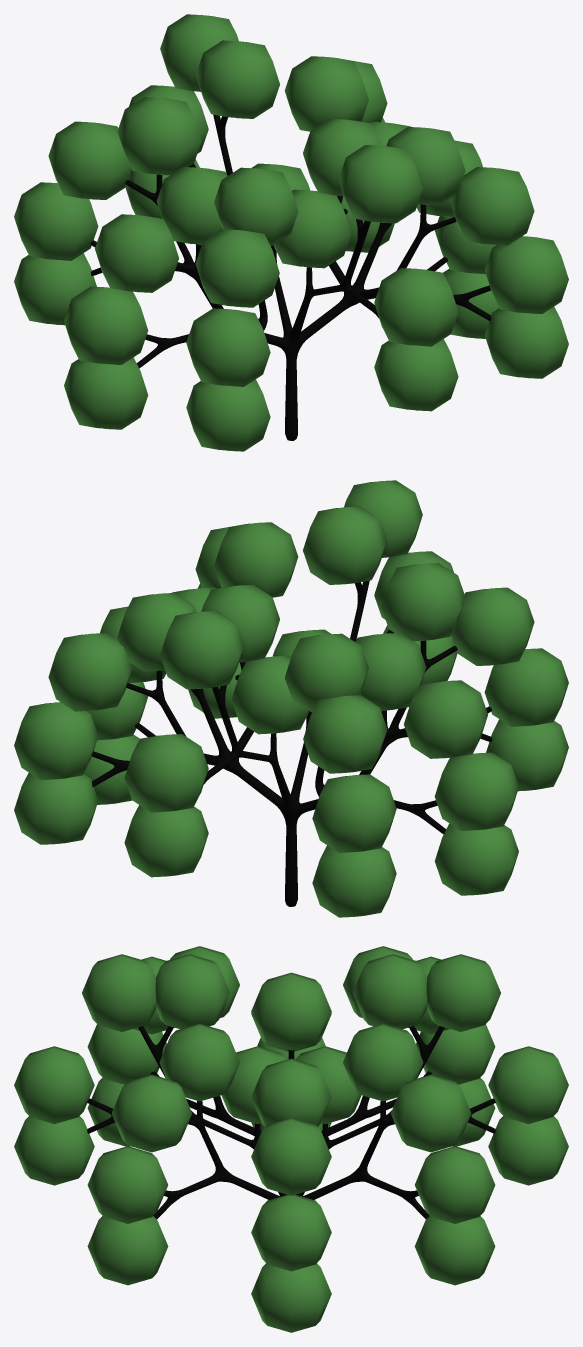
File: plant_variant_2.fbx
3 views of the same model, one above another, from view 1: azimuth 30°, elevation 25°; view 2: azimuth 150°, elevation 25°; view 3: azimuth 270°, elevation 25° (orthographic). The views are drawn at different scales.
Visible parts, largest first — view 1: Plane.001, Plane; view 2: Plane.001, Plane; view 3: Plane.001, Plane.
Boxes of the visible parts, x1,y1,x2,y2 form: Plane.001: [14, 14, 568, 451]; Plane: [90, 114, 491, 440]; Plane.001: [14, 480, 568, 917]; Plane: [92, 580, 492, 906]; Plane.001: [14, 946, 568, 1332]; Plane: [87, 1026, 495, 1218].
Bounding box in the file's own units: 144 × 164 × 112.
